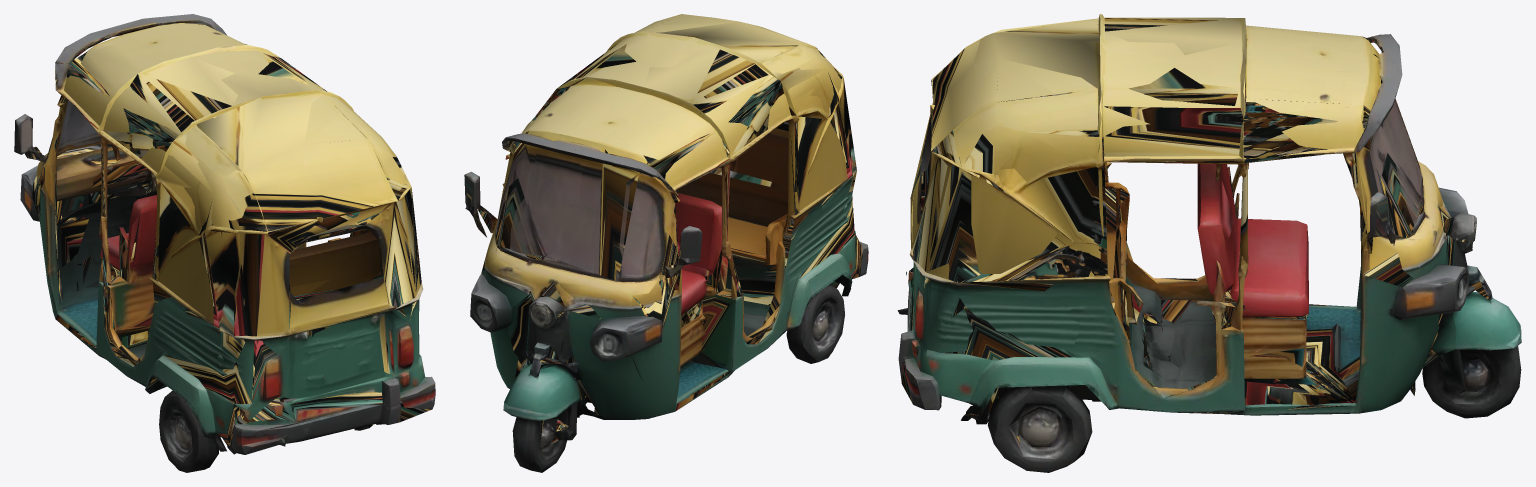
Rendered from kl_auto.glb.
The picture shows the model from 3 angles, left to right: view 1: azimuth 30°, elevation 25°; view 2: azimuth 150°, elevation 25°; view 3: azimuth 270°, elevation 25°; orthographic projection. The views are drawn at different scales.
Visible parts, largest first — view 1: body_0 (×2); view 2: body_0 (×2); view 3: body_0 (×2).
Part boxes in pixels (bbox=[...]): body_0 (×2): bbox=[14, 14, 435, 472]; body_0 (×2): bbox=[464, 14, 868, 472]; body_0 (×2): bbox=[897, 14, 1521, 472].
Size of the model in its own units: 1.37 by 1.75 by 2.64.
1 material, 1 textured.
